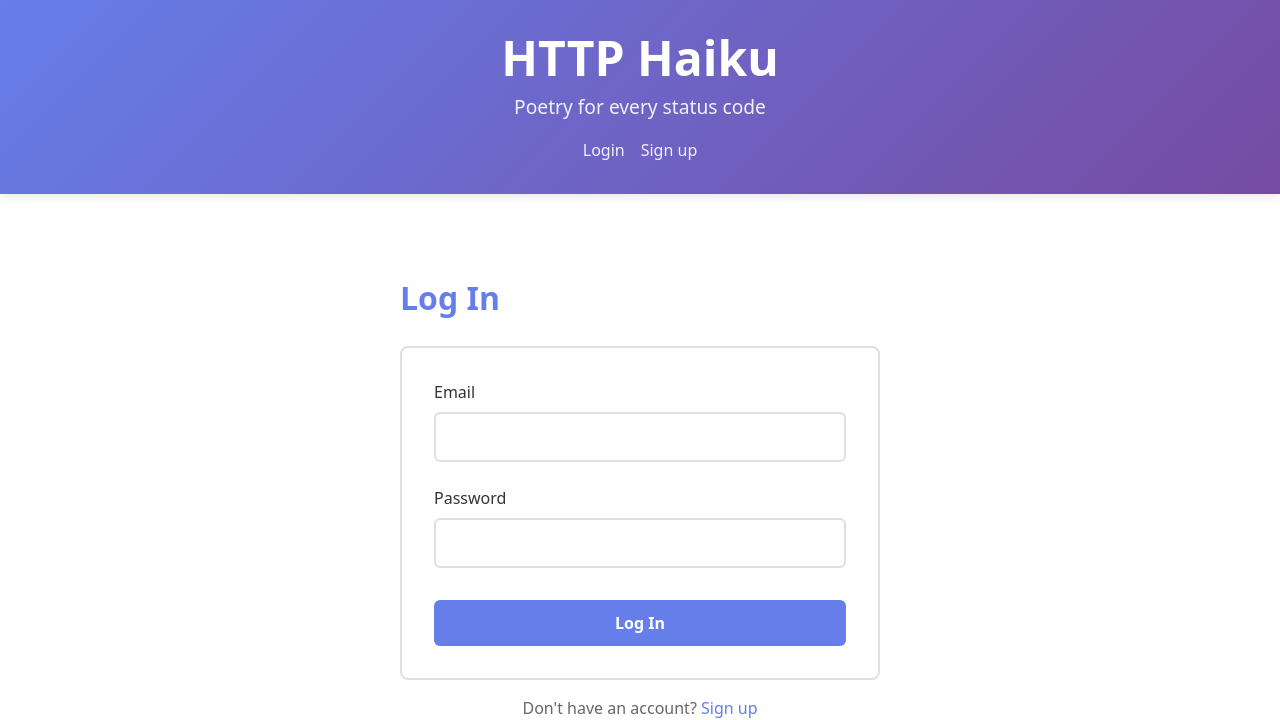
Test: LoginPage › shows fallback error when no response data
The width and height of the screenshot is (1280, 720).
Type "test@example.com" into the field labelled "Email". click: point(640, 437)
box: [434,412,846,462]
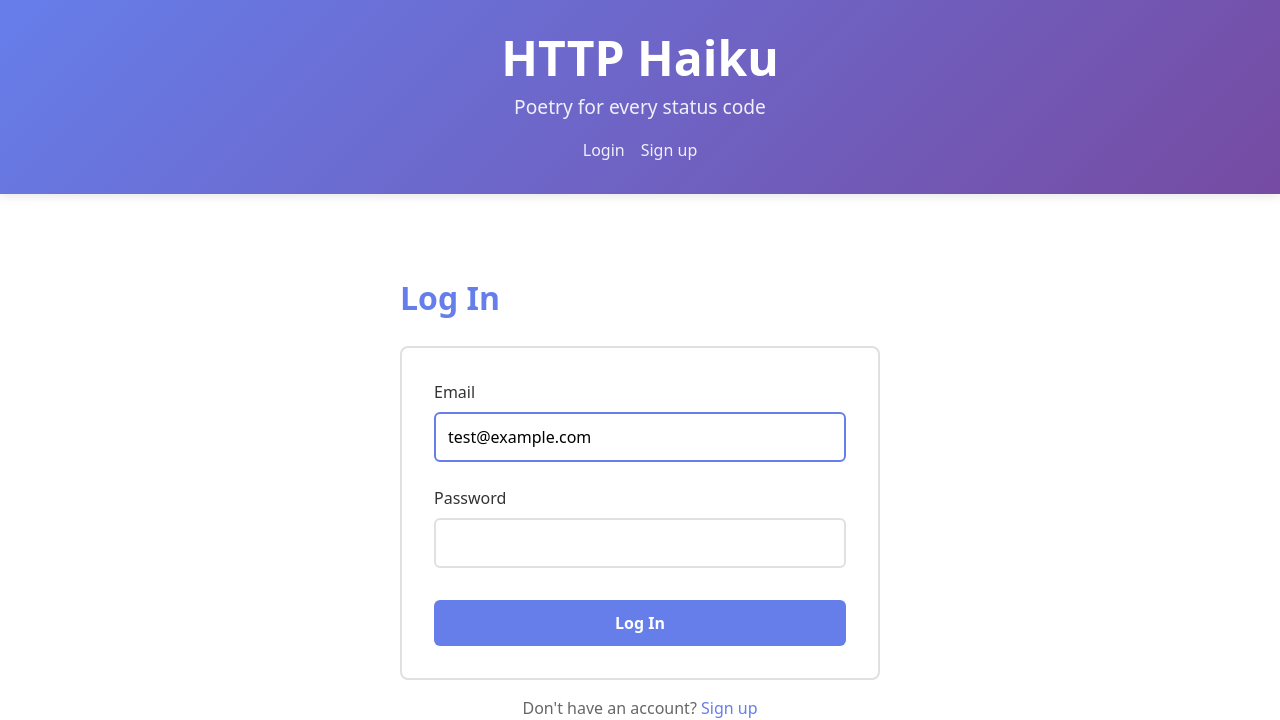
Type "password123" into the password field labelled "Password". click: point(640, 543)
box: [434,518,846,568]
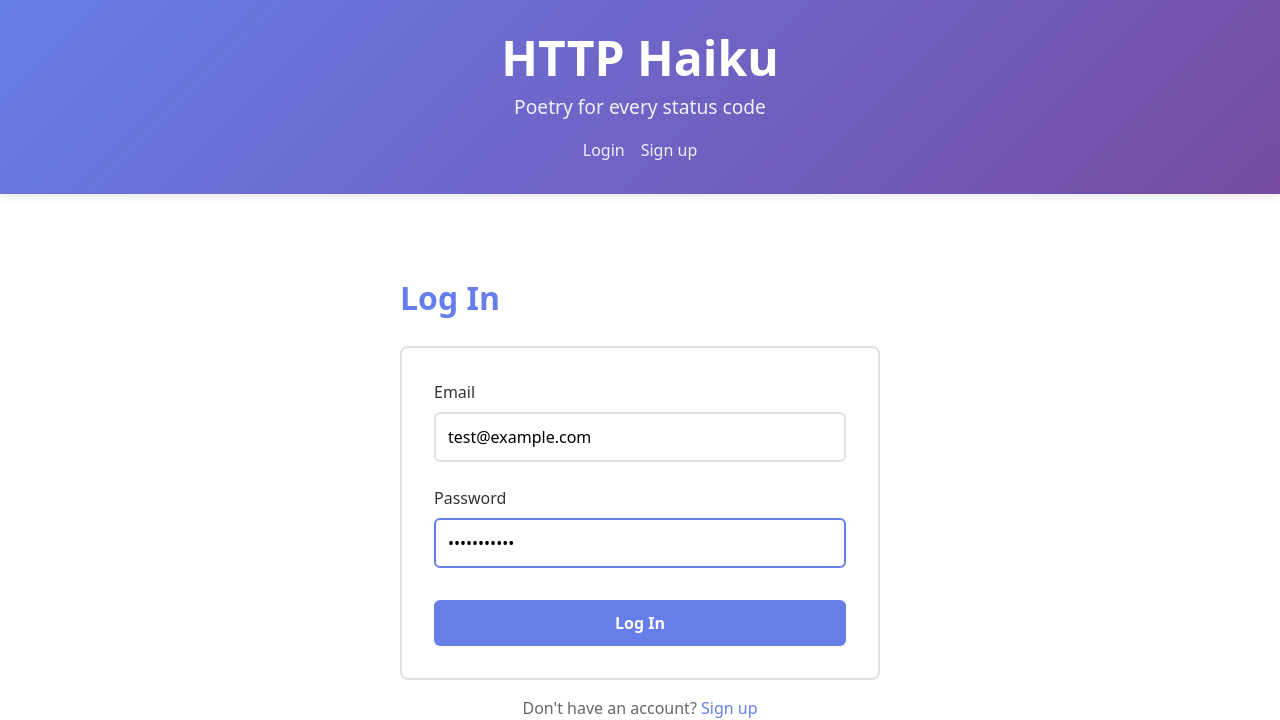
Click the button "Log In". click: point(640, 623)
box: [434,600,846,646]
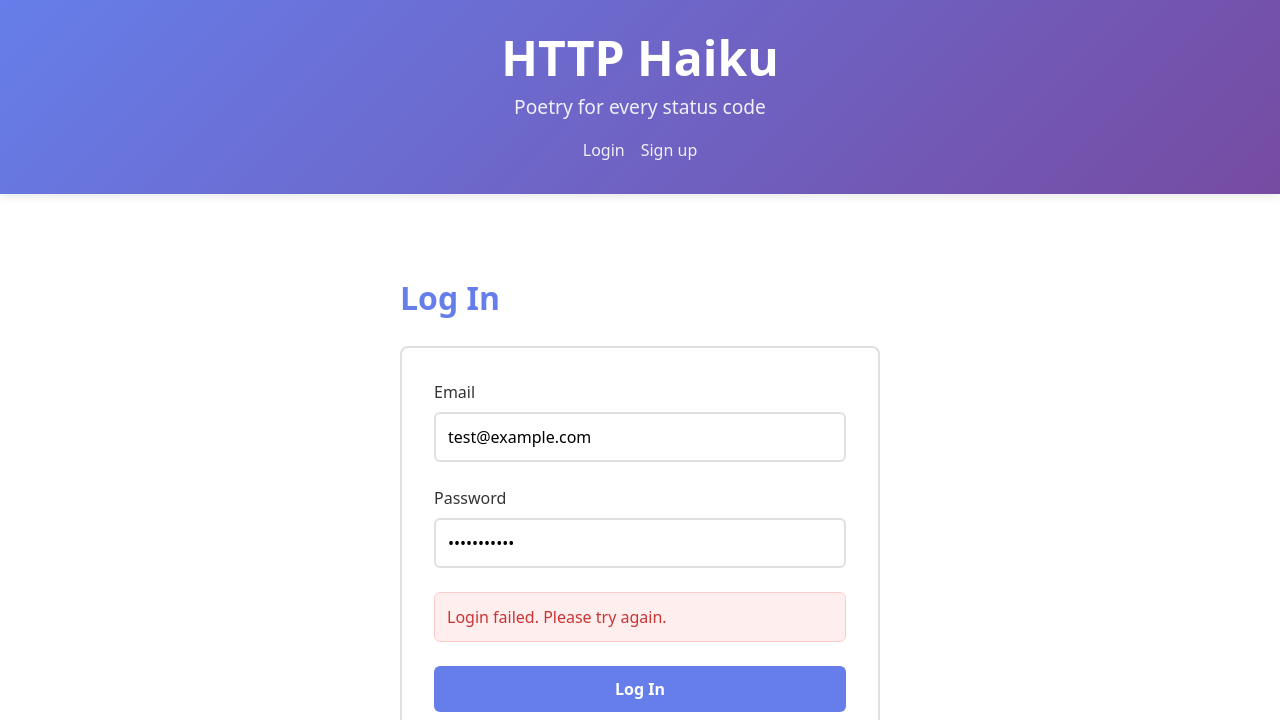
Expected: the text "Login failed. Please try again." is shown, [434,592,846,642]
